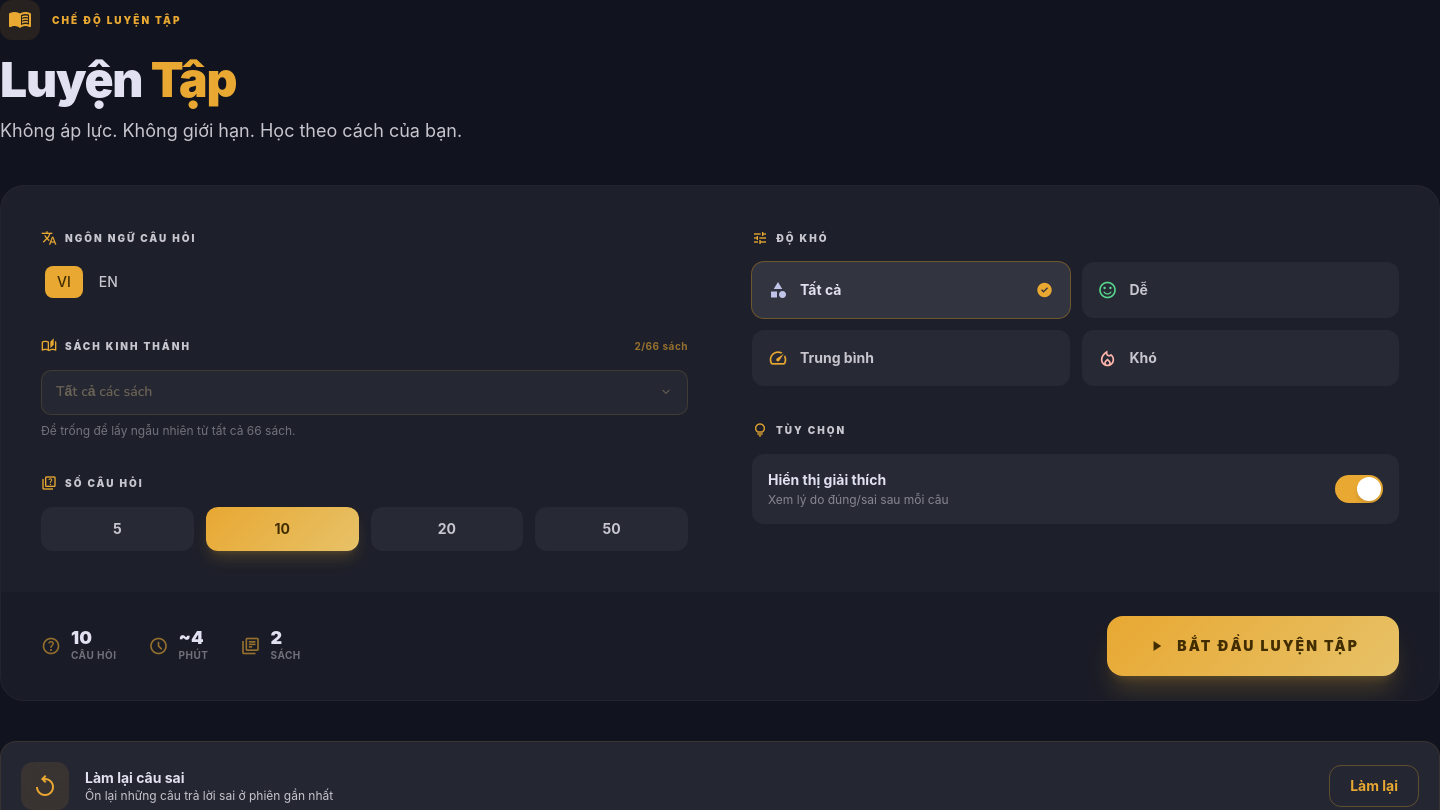
Test: Practice Mode › shows error message when API fails
Check: the text "Bắt Đầu Luyện Tập" is shown, box [1147,632,1359,660]
Step 1. Click the button "Bắt Đầu Luyện Tập" → point(1253, 646), box [1107,616,1399,676]
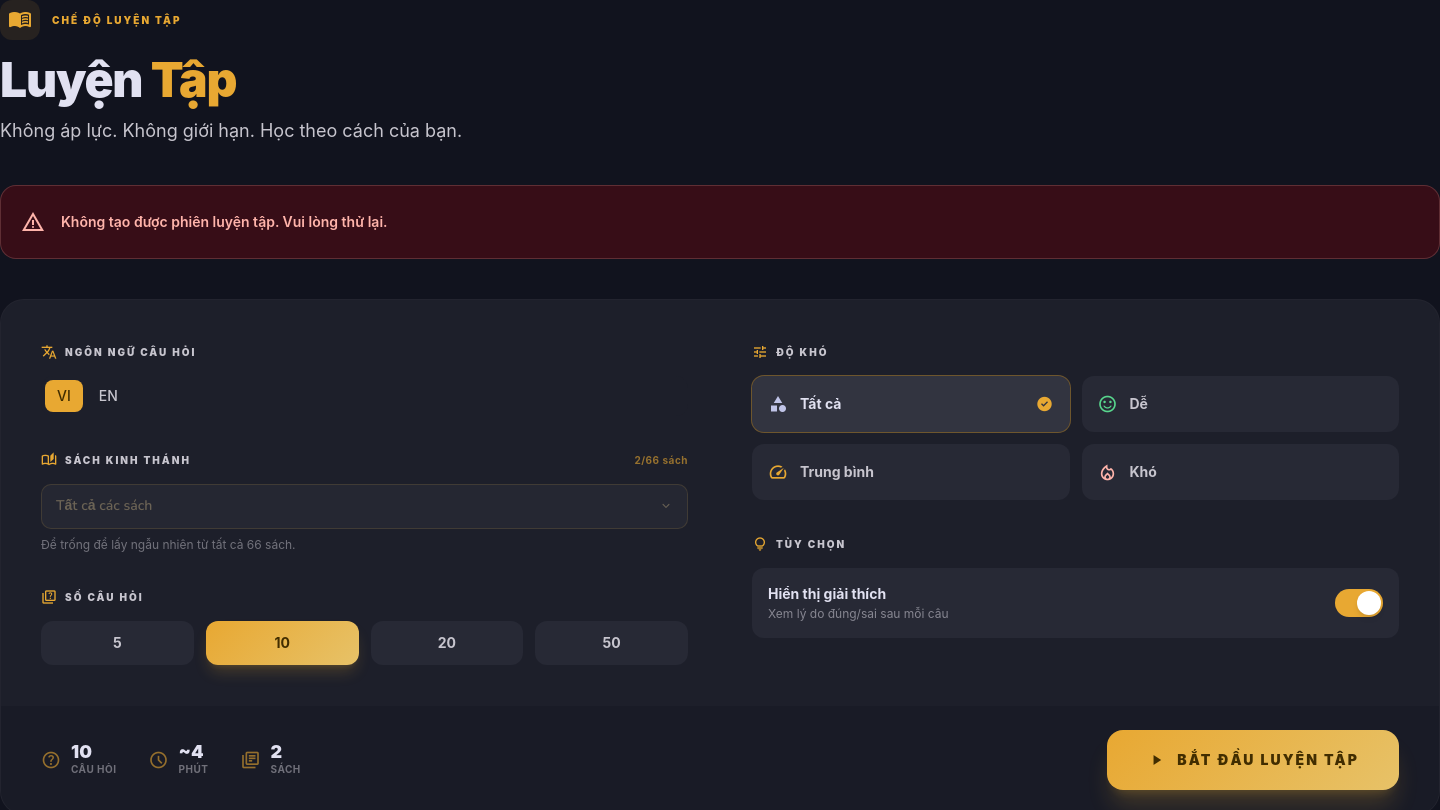
Check: the text "Không tạo được phiên luyện tập. Vui lòng thử lại." is shown, box [61,212,388,232]
